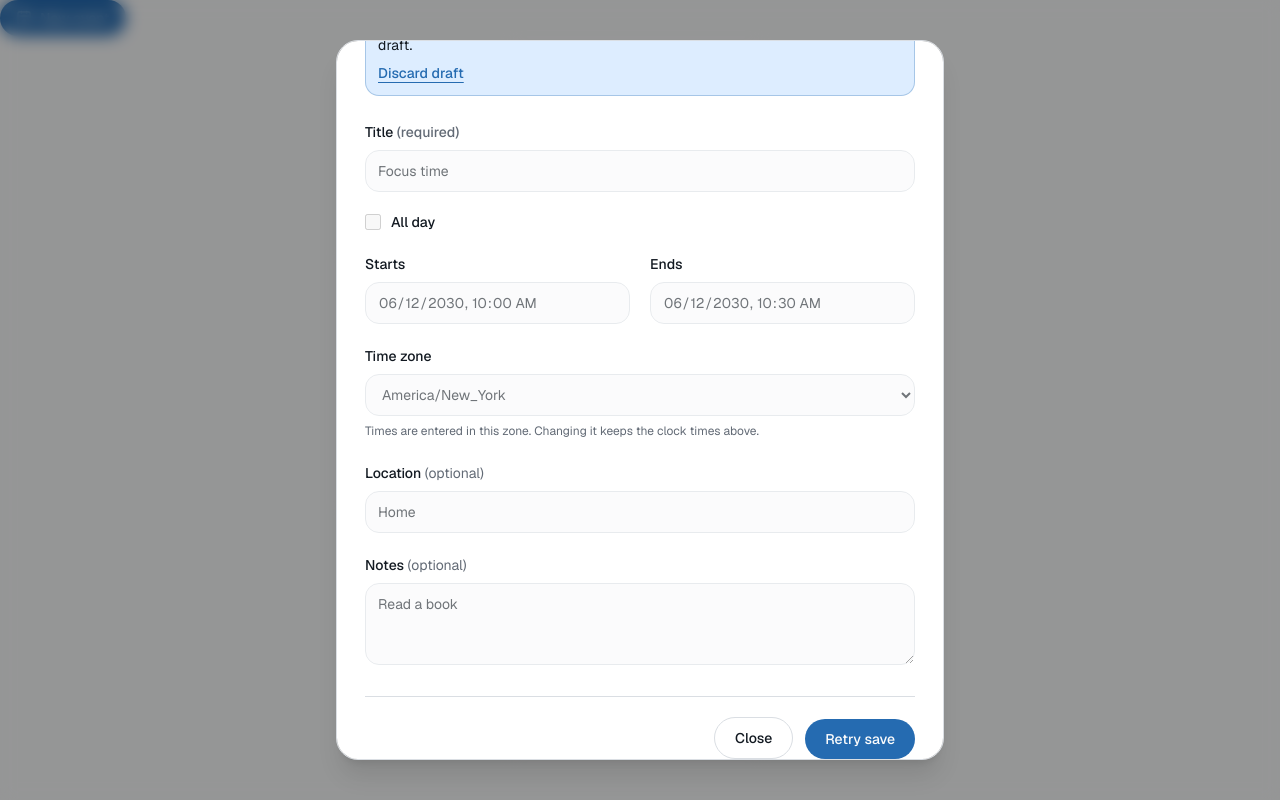
Scenario: event dialog › retains pending requests across reloads with the original transaction ID
The image size is (1280, 800).
(page scrolled)
expect the field labelled "Title (required)" is disabled: met, box [365, 150, 915, 192]
Click the button "Retry save" at (860, 739), box [805, 719, 915, 759]
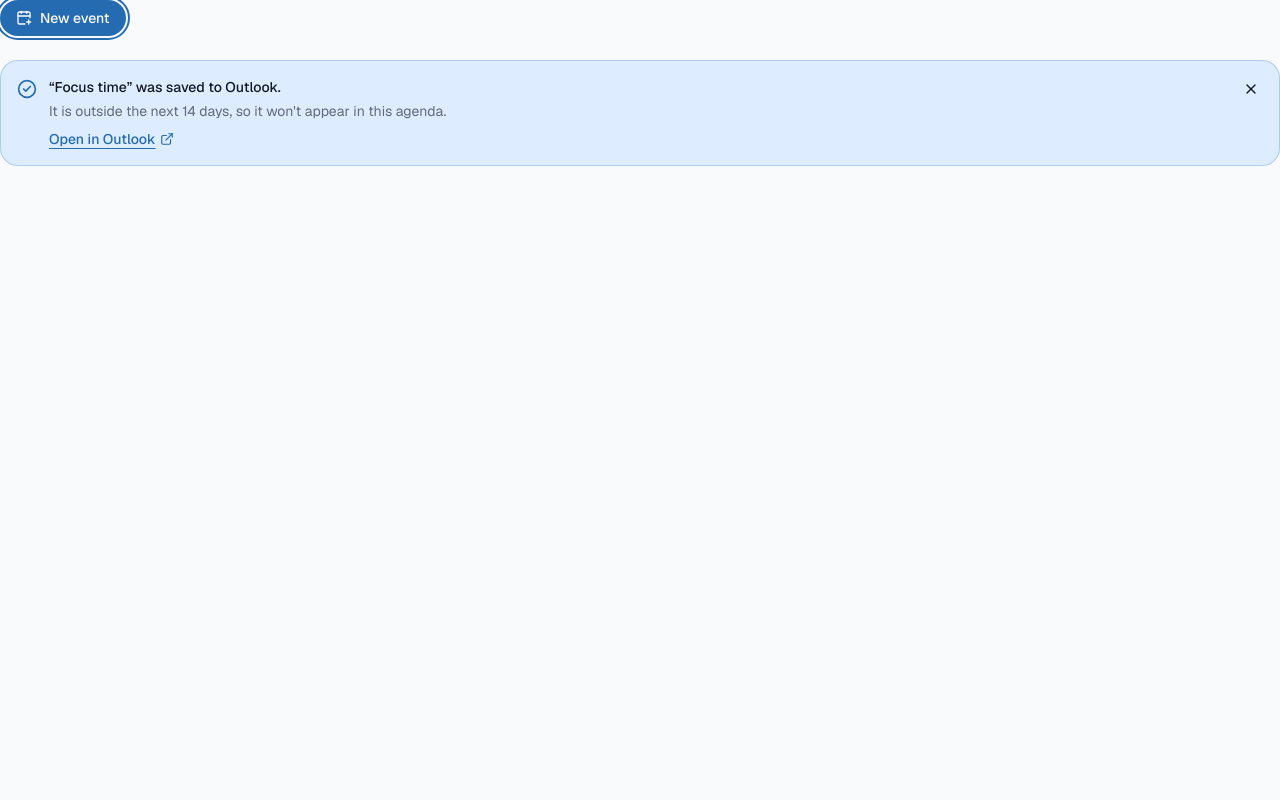
expect the text "“Focus time” was saved to Outlook." is shown: met, box [49, 78, 281, 96]
